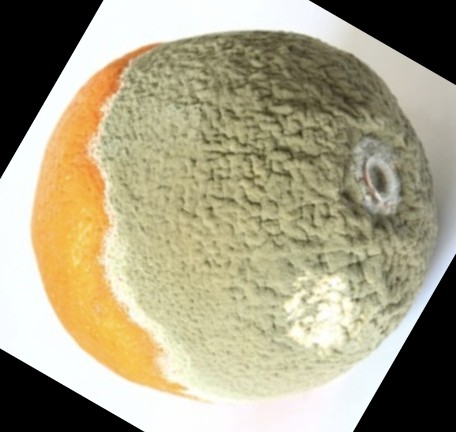rotten_orange: (31, 32, 441, 403)
